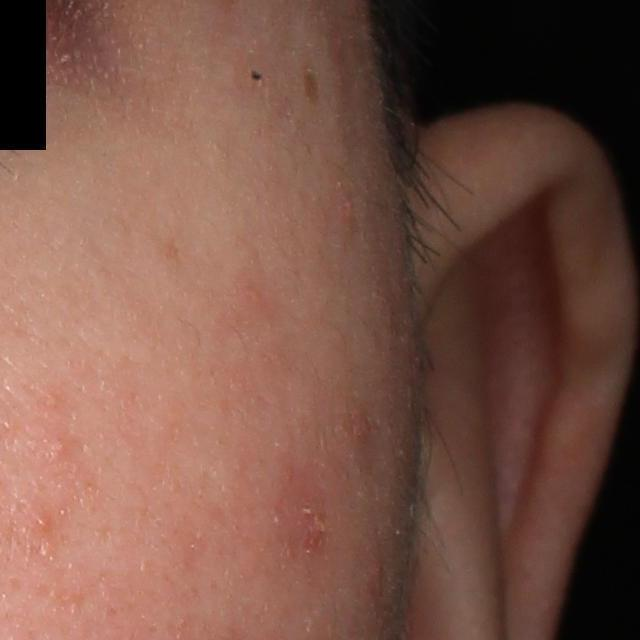melasma: (302, 65, 322, 104)
